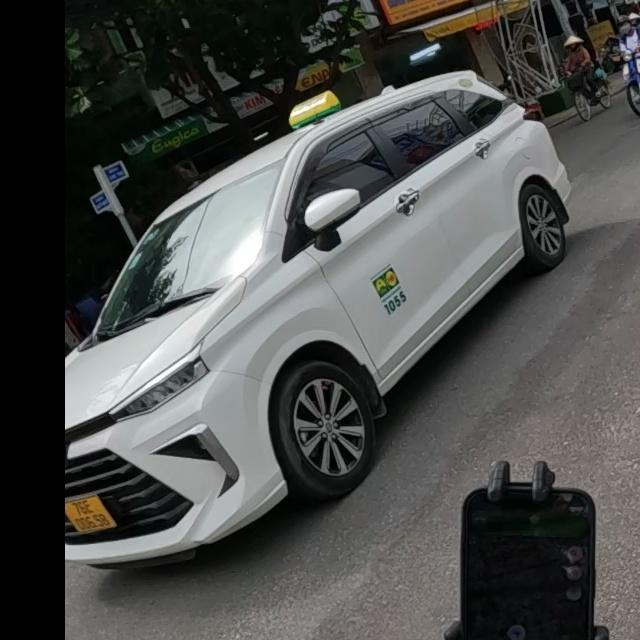license-plate: (64, 493, 118, 536)
